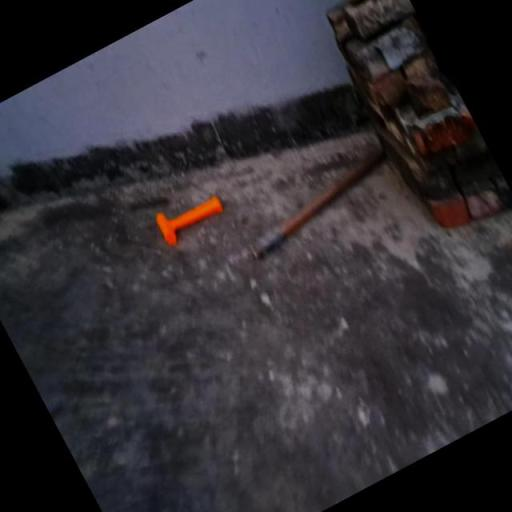mallet: (154, 184, 228, 248)
